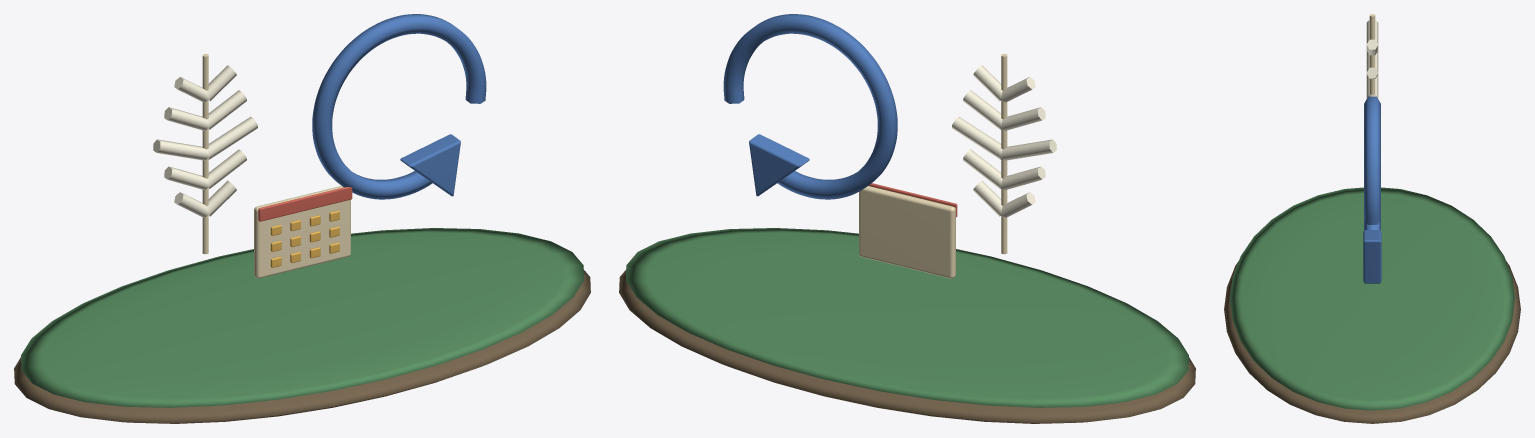
File: complete-second-practice-habit.glb
3 views of the same model, side by side, from view 1: azimuth 30°, elevation 25°; view 2: azimuth 150°, elevation 25°; view 3: azimuth 270°, elevation 25° (orthographic). The views are drawn at different scales.
Visible parts, largest first — view 1: complete-second-practice-habit_surface_01, complete-second-practice-habit_surface_04, complete-second-practice-habit_surface_00, complete-second-practice-habit_surface_03, complete-second-practice-habit_surface_02, complete-second-practice-habit_surface_05, complete-second-practice-habit_surface_06; view 2: complete-second-practice-habit_surface_01, complete-second-practice-habit_surface_04, complete-second-practice-habit_surface_00, complete-second-practice-habit_surface_02, complete-second-practice-habit_surface_03; view 3: complete-second-practice-habit_surface_01, complete-second-practice-habit_surface_00, complete-second-practice-habit_surface_04, complete-second-practice-habit_surface_03, complete-second-practice-habit_surface_02.
Part boxes in pixels (box(x1,y1,x2,y2)): complete-second-practice-habit_surface_01: box(21, 228, 583, 407); complete-second-practice-habit_surface_04: box(312, 14, 486, 199); complete-second-practice-habit_surface_00: box(14, 269, 590, 423); complete-second-practice-habit_surface_03: box(153, 65, 257, 217); complete-second-practice-habit_surface_02: box(202, 53, 350, 278); complete-second-practice-habit_surface_05: box(258, 187, 352, 221); complete-second-practice-habit_surface_06: box(270, 210, 339, 267); complete-second-practice-habit_surface_01: box(626, 228, 1188, 407); complete-second-practice-habit_surface_04: box(723, 14, 897, 199); complete-second-practice-habit_surface_00: box(619, 269, 1195, 423); complete-second-practice-habit_surface_02: box(859, 53, 1007, 278); complete-second-practice-habit_surface_03: box(952, 65, 1056, 217); complete-second-practice-habit_surface_01: box(1230, 187, 1514, 410); complete-second-practice-habit_surface_00: box(1224, 261, 1520, 423); complete-second-practice-habit_surface_04: box(1363, 96, 1381, 283); complete-second-practice-habit_surface_03: box(1366, 20, 1378, 98); complete-second-practice-habit_surface_02: box(1369, 14, 1375, 94).
Size of the model in its own units: 4.56 by 2.49 by 2.5.
